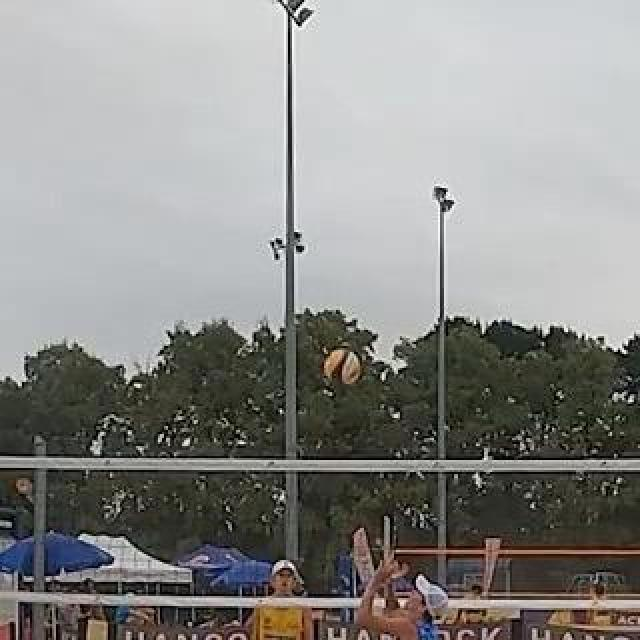volleyball: (327, 347, 361, 383)
